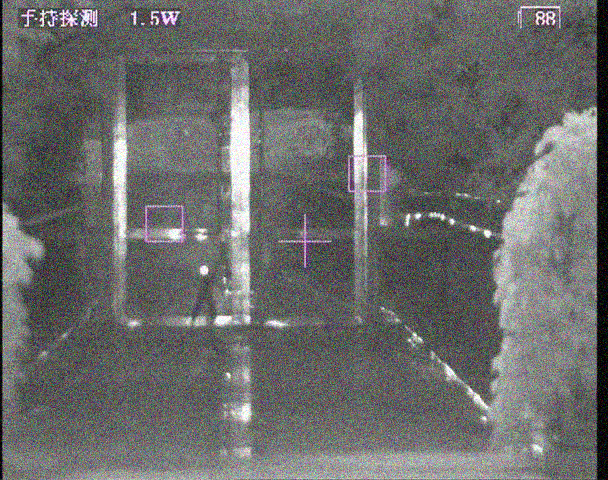my: (197, 264, 209, 276)
